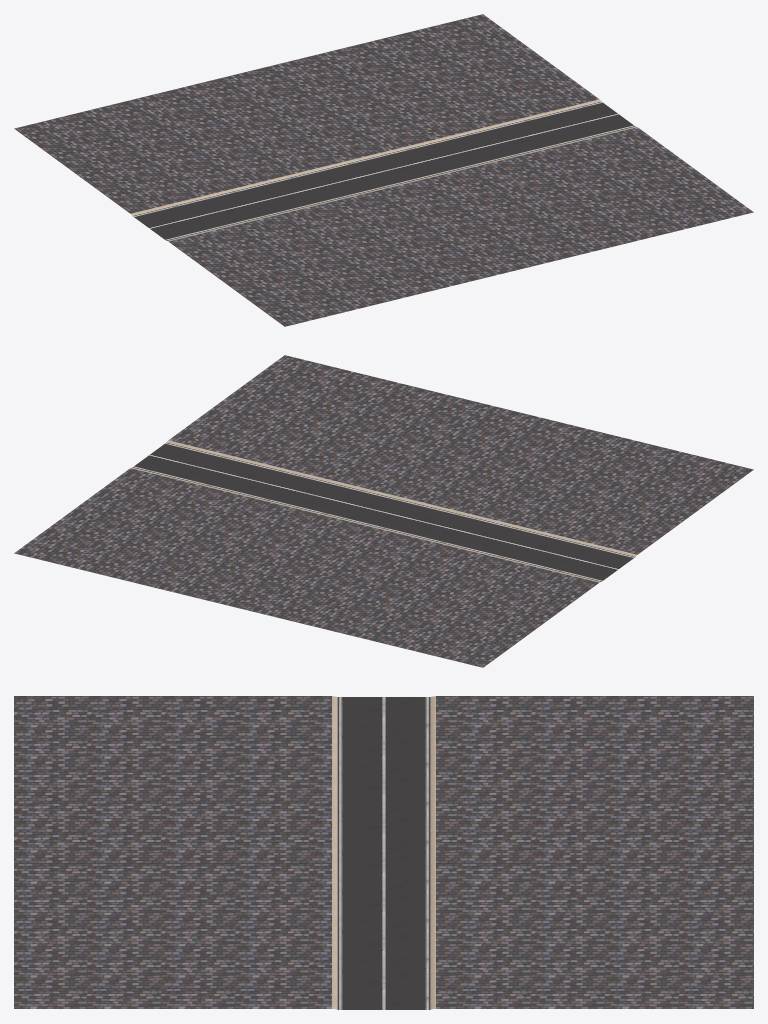
Rendered from RoadStraight_NS.fbx.
3 views of the same model, one above another, from view 1: azimuth 30°, elevation 25°; view 2: azimuth 150°, elevation 25°; view 3: azimuth 270°, elevation 25° (orthographic). The views are drawn at different scales.
Parts seen in each view (by area): view 1: RoadStraight_NS; view 2: RoadStraight_NS; view 3: RoadStraight_NS.
Boxes of the visible parts, x1,y1,x2,y2 form: RoadStraight_NS: (14,14,753,326); RoadStraight_NS: (14,355,753,667); RoadStraight_NS: (14,696,753,1009).
Size of the model in its own units: 6400 by 10 by 6400.
